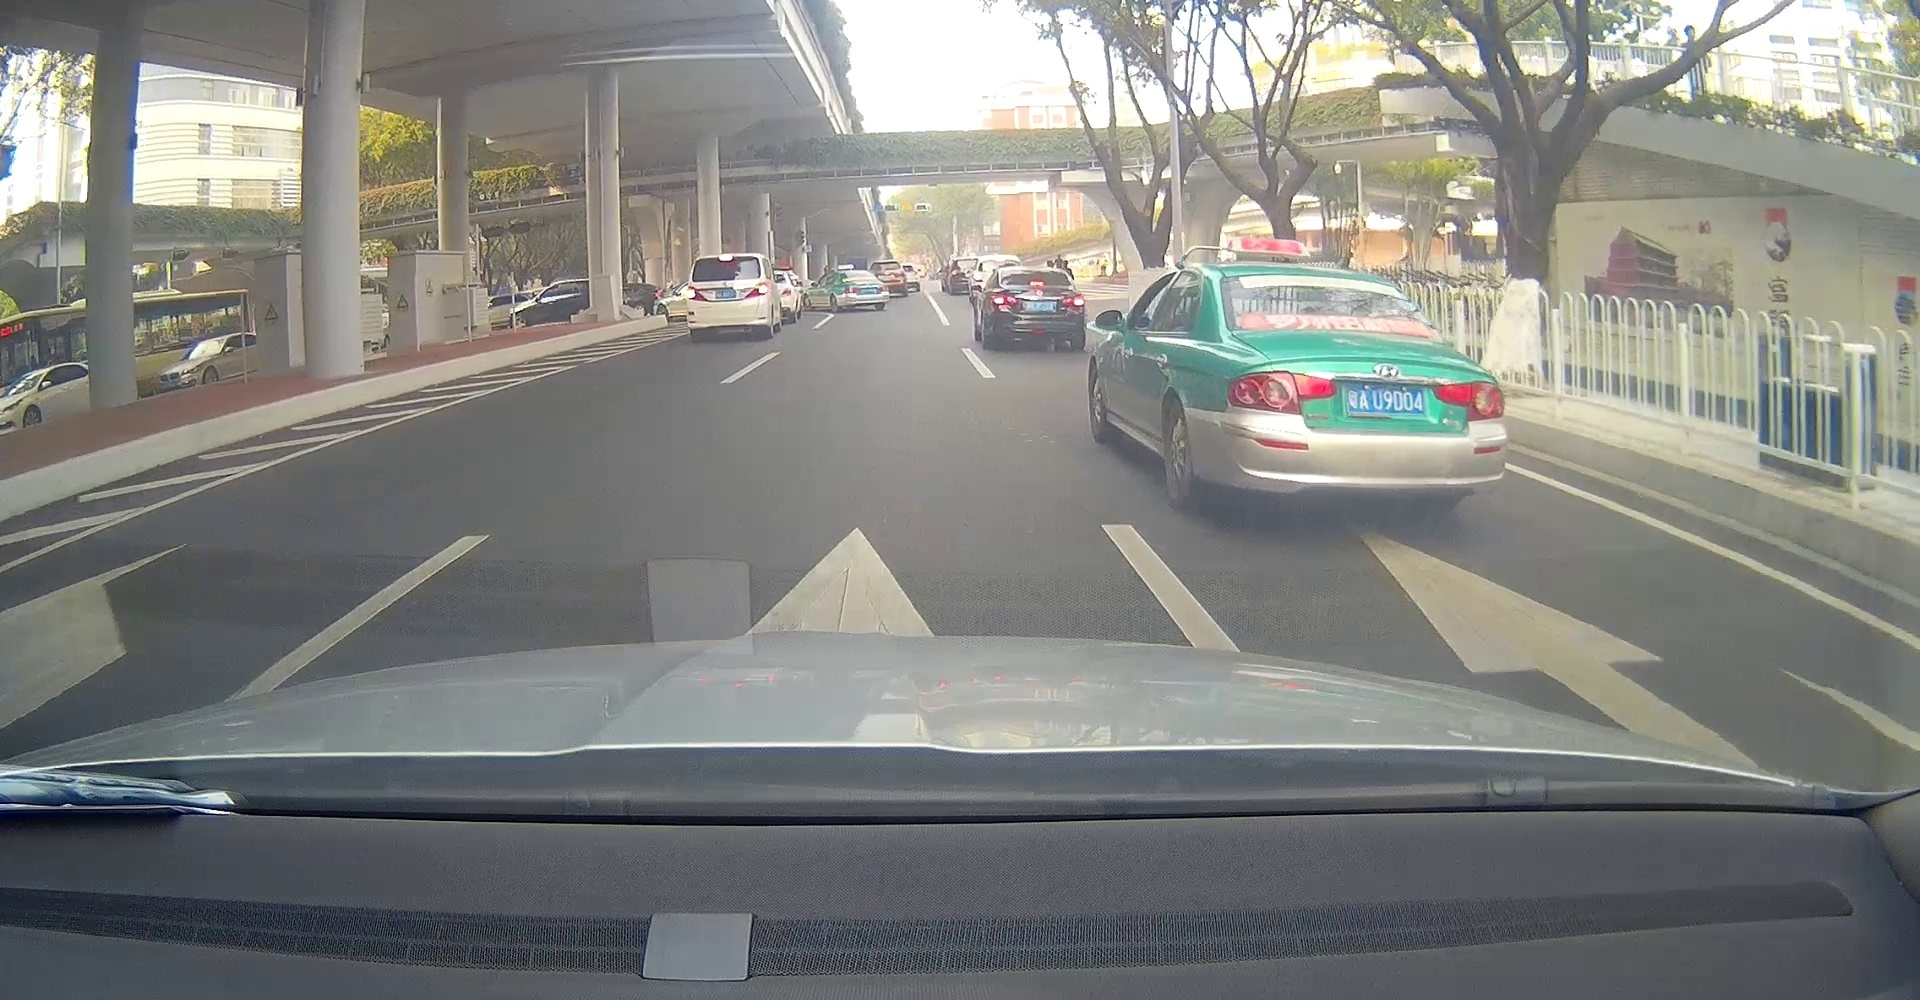L_light: (1228, 371, 1336, 414), (990, 294, 1016, 306), (688, 286, 707, 301), (844, 287, 858, 293)
R_light: (1431, 379, 1505, 419), (744, 283, 768, 299), (1062, 294, 1084, 308), (879, 286, 888, 291)
T_light: (1310, 277, 1345, 291), (717, 255, 733, 261), (1030, 280, 1045, 286), (855, 272, 865, 275)
day-brake: (989, 268, 1084, 350), (686, 254, 770, 341)
day-no: (1214, 270, 1507, 511), (837, 272, 889, 311)
